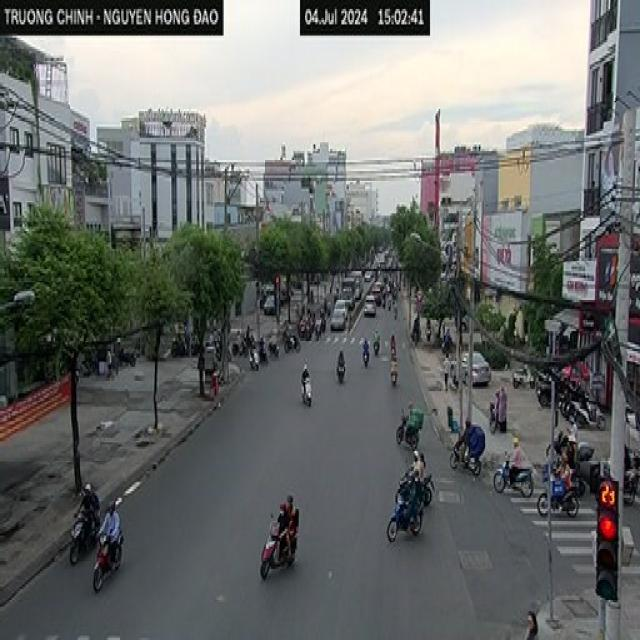Red: (596, 477, 618, 605)
